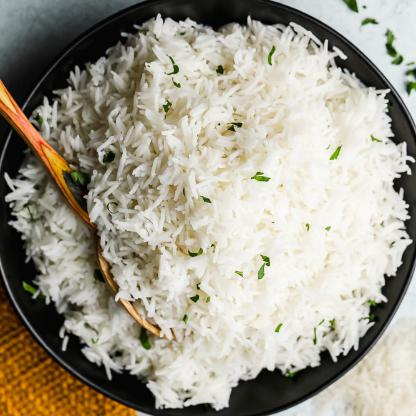white rice: (6, 17, 412, 408)
